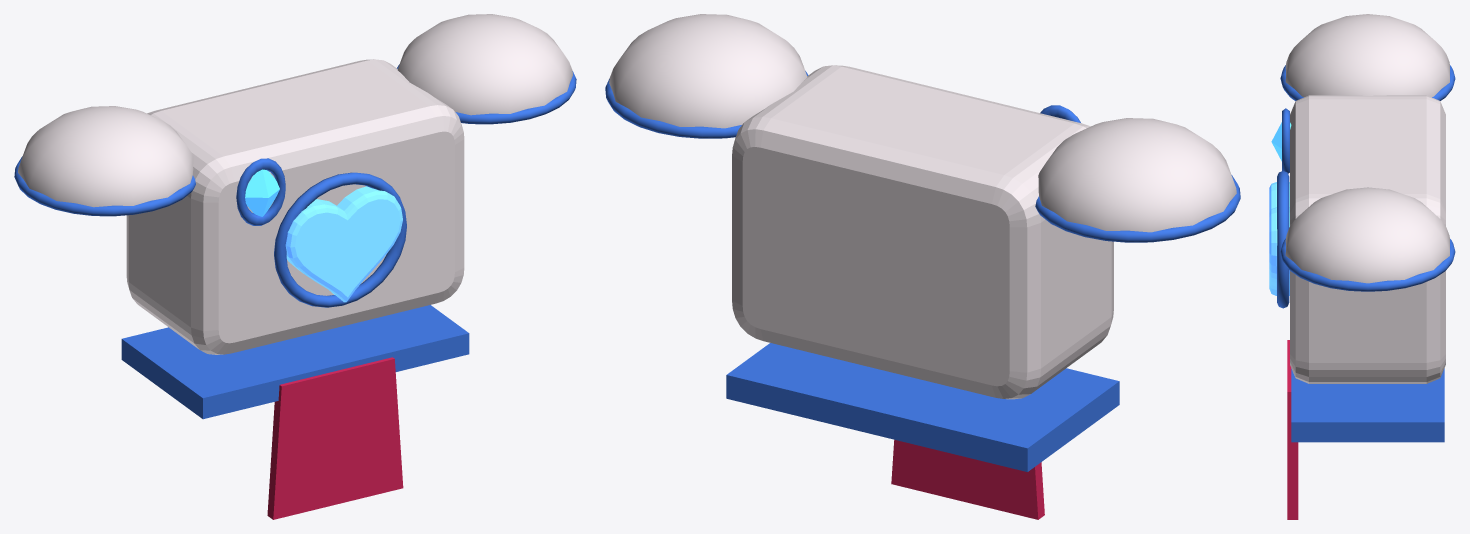
File: eqf_eqmo1.glb
The picture shows the model from 3 angles, left to right: view 1: azimuth 30°, elevation 25°; view 2: azimuth 150°, elevation 25°; view 3: azimuth 270°, elevation 25°; orthographic projection. The views are drawn at different scales.
Bounding box in the file's own units: 4.28 × 3.05 × 1.36.
